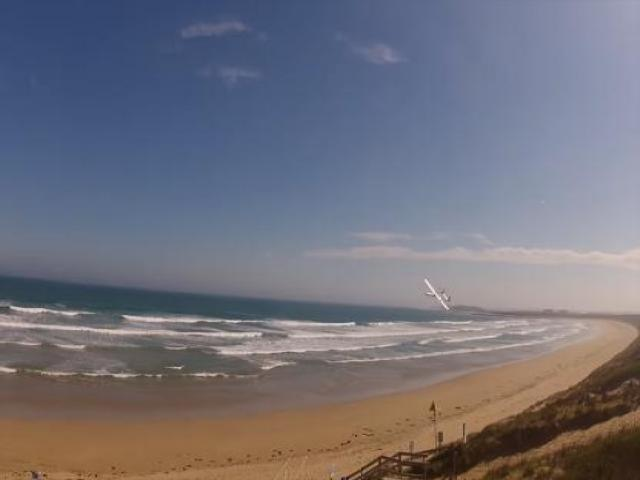uav: (414, 271, 454, 317)
